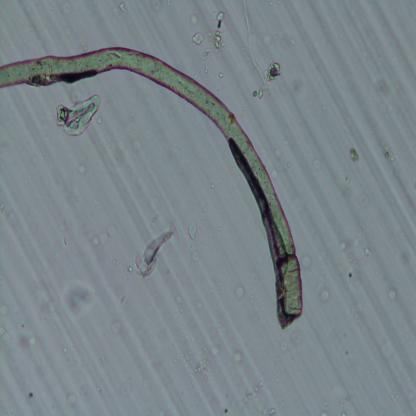Background material: (238, 2, 280, 96), (189, 12, 236, 82), (134, 222, 176, 284), (56, 94, 102, 139), (61, 276, 99, 321), (337, 238, 365, 285), (181, 349, 212, 389), (370, 77, 392, 114), (16, 328, 41, 349), (345, 145, 363, 170), (381, 139, 394, 166), (318, 282, 334, 301), (187, 222, 202, 242), (361, 246, 376, 259), (230, 350, 242, 366), (233, 283, 244, 300), (115, 3, 129, 15), (386, 290, 398, 303)
Microfibre: (0, 44, 309, 324)
